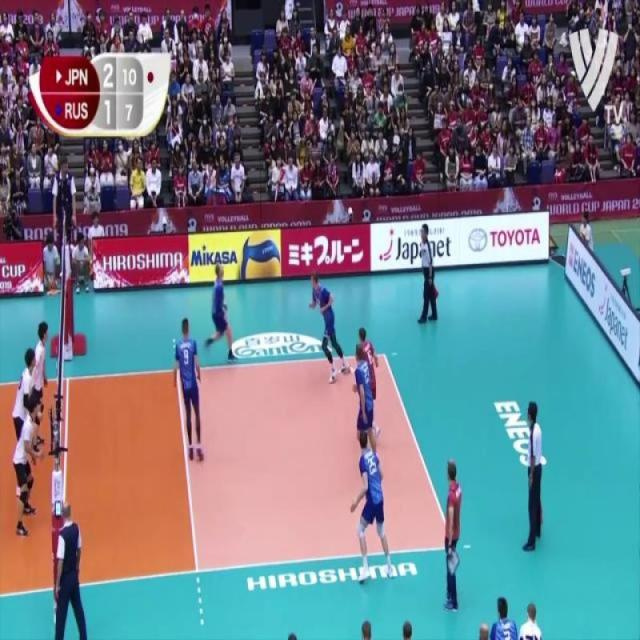volleyball: (242, 233, 282, 282)
